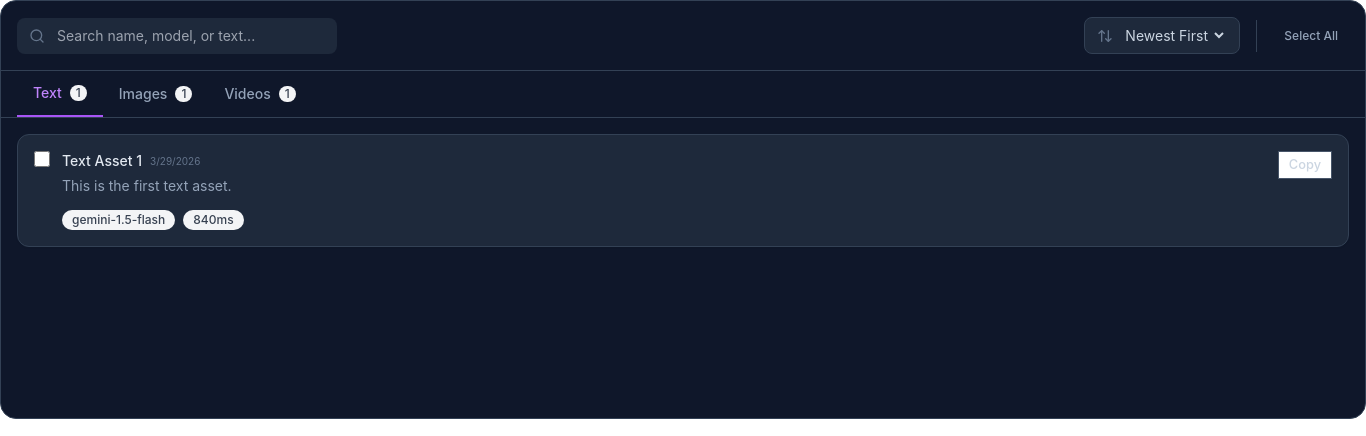
it: AssetGallery › can copy text to clipboard
The width and height of the screenshot is (1366, 436).
Click the button "Copy": (1305, 165) x1=1278 y1=151 x2=1332 y2=179
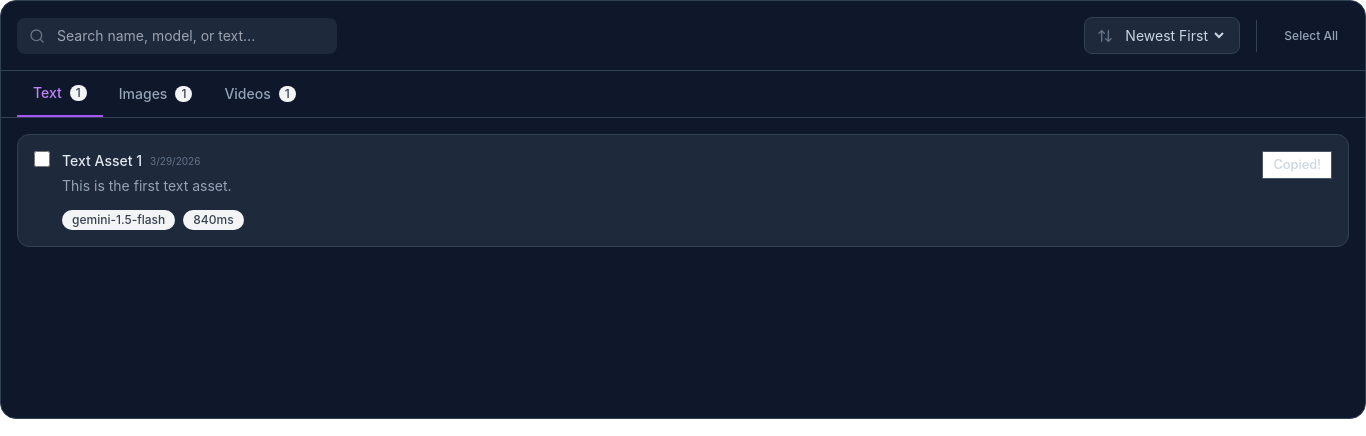
Result: the button "Copied!" is shown at x1=1262 y1=151 x2=1332 y2=179
